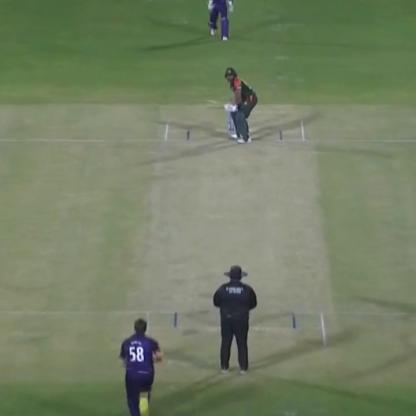bat: (201, 90, 233, 116)
pitch: (144, 125, 322, 347)
